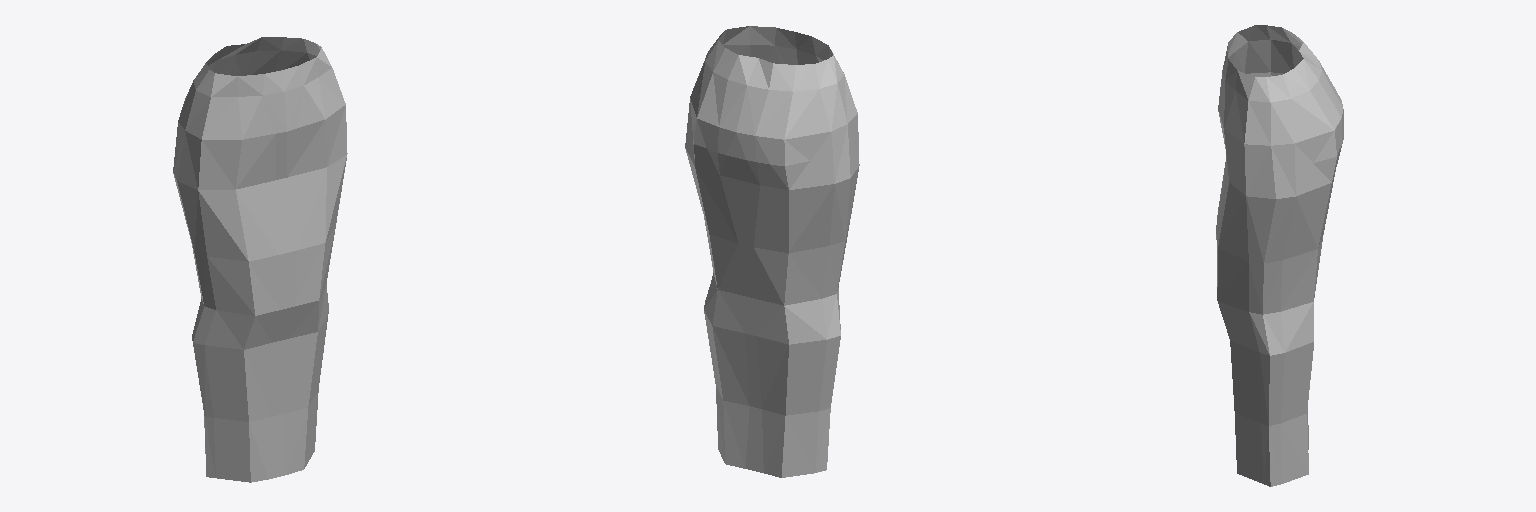
File: avatar_skirt-skirt_lovehandles.obj
The picture shows the model from 3 angles: view 1: azimuth 30°, elevation 25°; view 2: azimuth 150°, elevation 25°; view 3: azimuth 270°, elevation 25°; orthographic projection.
Parts seen in each view (by area): view 1: g1_avatar_skirt; view 2: g1_avatar_skirt; view 3: g1_avatar_skirt.
Part boxes in pixels (x1,y1,x2,y2): g1_avatar_skirt: (173,37,347,482); g1_avatar_skirt: (685,26,859,477); g1_avatar_skirt: (1216,25,1343,486).
Size of the model in its own units: 0.4622 by 1.12 by 0.3149.